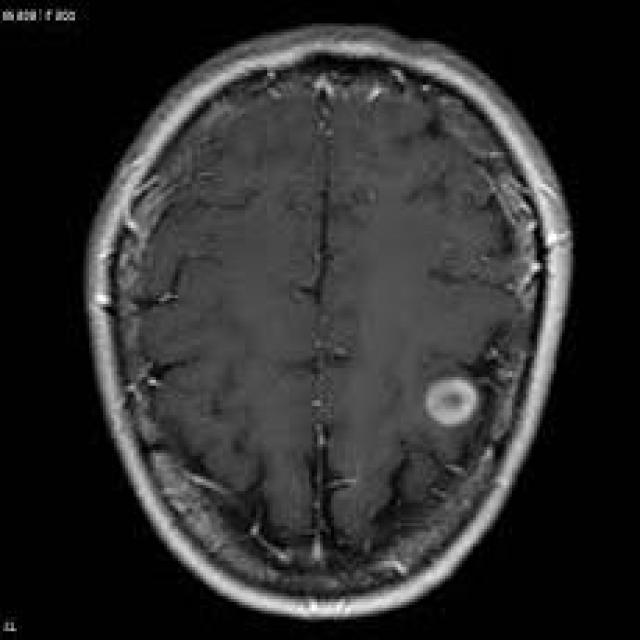Tumor-Cell: (410, 371, 496, 446)
